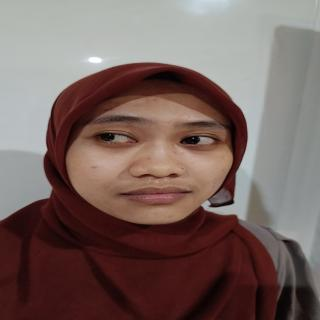Takut: (56, 78, 244, 231)
